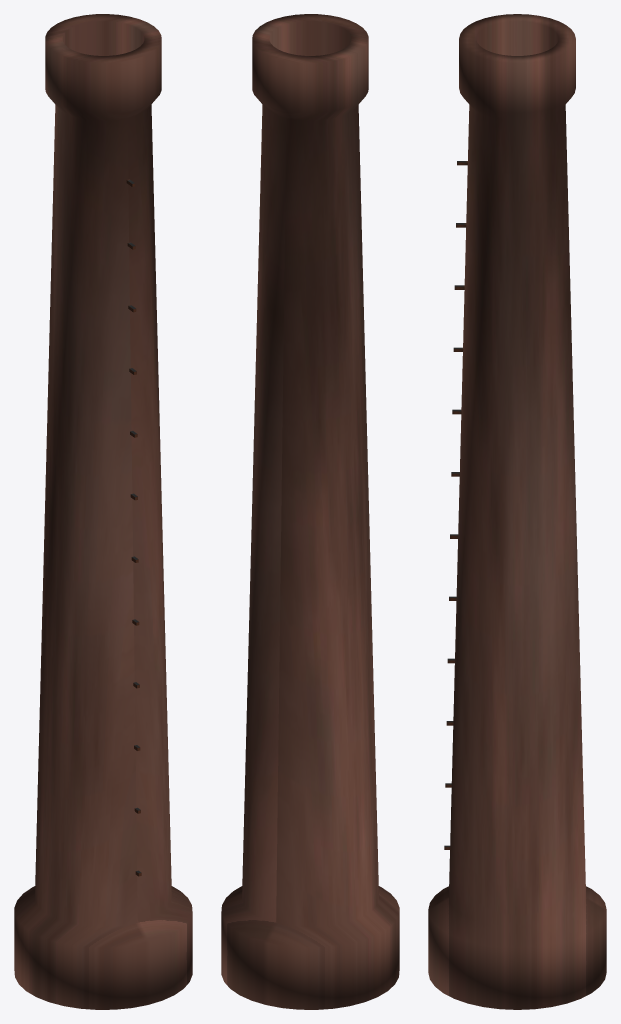
Rendered from HM14_FactorySmokestack.glb.
The picture shows the model from 3 angles, left to right: view 1: azimuth 30°, elevation 25°; view 2: azimuth 150°, elevation 25°; view 3: azimuth 270°, elevation 25°; orthographic projection.
Visible parts, largest first — view 1: HM14_FactorySmokestack; view 2: HM14_FactorySmokestack; view 3: HM14_FactorySmokestack.
Part boxes in pixels (box(x1,y1,x2,y2)): HM14_FactorySmokestack: box(14, 14, 192, 1009); HM14_FactorySmokestack: box(221, 14, 399, 1009); HM14_FactorySmokestack: box(428, 14, 606, 1009).
Size of the model in its own units: 2.6 by 15 by 2.6.
2 materials, 2 textured.
